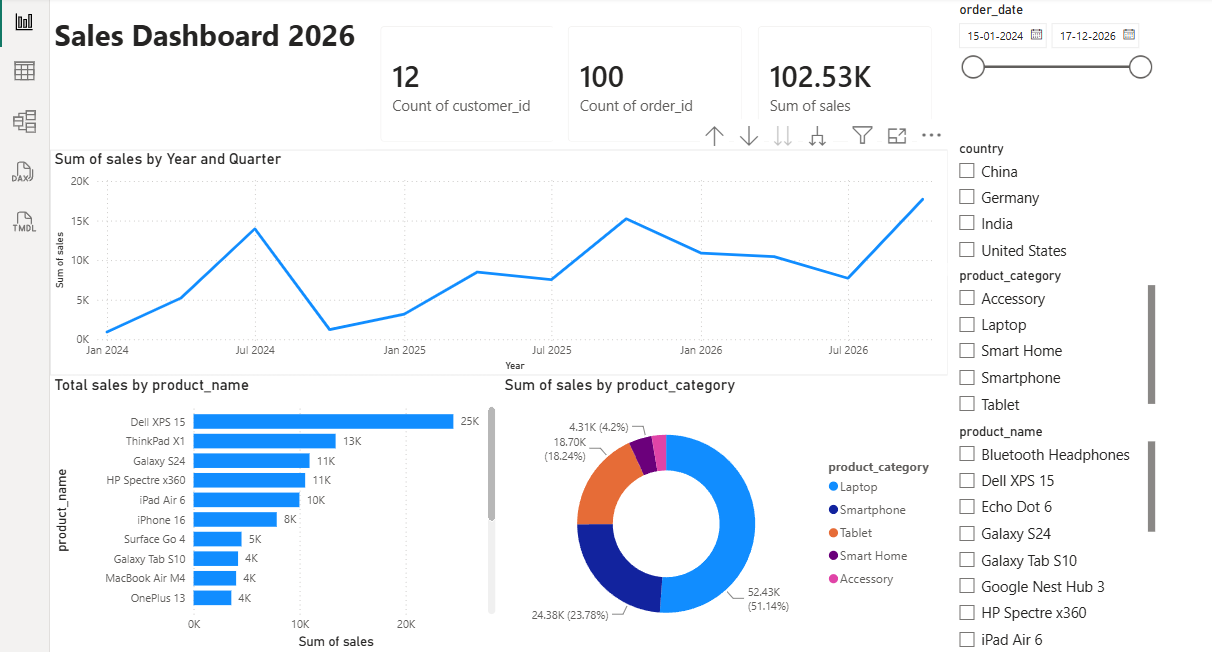

This screenshot's page, from the dashboard's own definition file:
{"tool":"powerbi","page":{"name":"Page 1","canvas":[1280,720],"ordinal":0},"visuals":[{"type":"barChart","title":"Total sales by product_name","fields":{"Category":["orders.product_name"],"Y":["Sum(orders.sales)"]},"box":[0,415.8,494,304.6],"z":0},{"type":"donutChart","fields":{"Y":["Sum(orders.sales)"],"Category":["orders.product_category"]},"box":[494,415.8,491.3,304.6],"z":1000},{"type":"cardVisual","fields":{"Data":["Count(orders.customer_id)"]},"box":[345.8,15.1,225,161.9],"z":2000},{"type":"cardVisual","fields":{"Data":["CountNonNull(orders.order_id)"]},"box":[551.6,15.1,225,161.9],"z":3000},{"type":"cardVisual","fields":{"Data":["Sum(orders.sales)"]},"box":[760.2,15.1,225,161.9],"z":4000},{"type":"lineChart","fields":{"Category":["orders.order_date.Variation.Date Hierarchy.Year","orders.order_date.Variation.Date Hierarchy.Quarter","orders.order_date.Variation.Date Hierarchy.Month","orders.order_date.Variation.Date Hierarchy.Day"],"Y":["Sum(orders.sales)"]},"box":[0,167.4,985.3,248.4],"z":4001},{"type":"slicer","fields":{"Values":["customers.country"]},"box":[985.3,152.3,295,153.7],"z":4002},{"type":"slicer","fields":{"Values":["orders.product_category"]},"box":[985.3,292.3,233.3,171.5],"z":4003},{"type":"slicer","fields":{"Values":["orders.order_date"]},"box":[985.3,0,233.3,152.3],"z":4004},{"type":"textbox","box":[0,15,346,152],"z":4005},{"type":"slicer","fields":{"Values":["orders.product_name"]},"box":[985.3,463.8,233.3,256.6],"z":4006}]}

Visuals, with their boxes on the page's 1280x720 design canvas (x1, y1, x2, y2). These are canvas units, not pixel positions in the 1212x652 screenshot, which may show the page scaled, cropped or inside an application window:
"Total sales by product_name" barChart: {"x1": 0, "y1": 416, "x2": 494, "y2": 720}
donutChart - Sum(orders.sales) x orders.product_category: {"x1": 494, "y1": 416, "x2": 985, "y2": 720}
cardVisual - Count(orders.customer_id): {"x1": 346, "y1": 15, "x2": 571, "y2": 177}
cardVisual - CountNonNull(orders.order_id): {"x1": 552, "y1": 15, "x2": 777, "y2": 177}
cardVisual - Sum(orders.sales): {"x1": 760, "y1": 15, "x2": 985, "y2": 177}
lineChart - orders.order_date.Variation.Date Hierarchy.Year x orders.order_date.Variation.Date Hierarchy.Quarter: {"x1": 0, "y1": 167, "x2": 985, "y2": 416}
slicer - customers.country: {"x1": 985, "y1": 152, "x2": 1280, "y2": 306}
slicer - orders.product_category: {"x1": 985, "y1": 292, "x2": 1219, "y2": 464}
slicer - orders.order_date: {"x1": 985, "y1": 0, "x2": 1219, "y2": 152}
textbox: {"x1": 0, "y1": 15, "x2": 346, "y2": 167}
slicer - orders.product_name: {"x1": 985, "y1": 464, "x2": 1219, "y2": 720}
